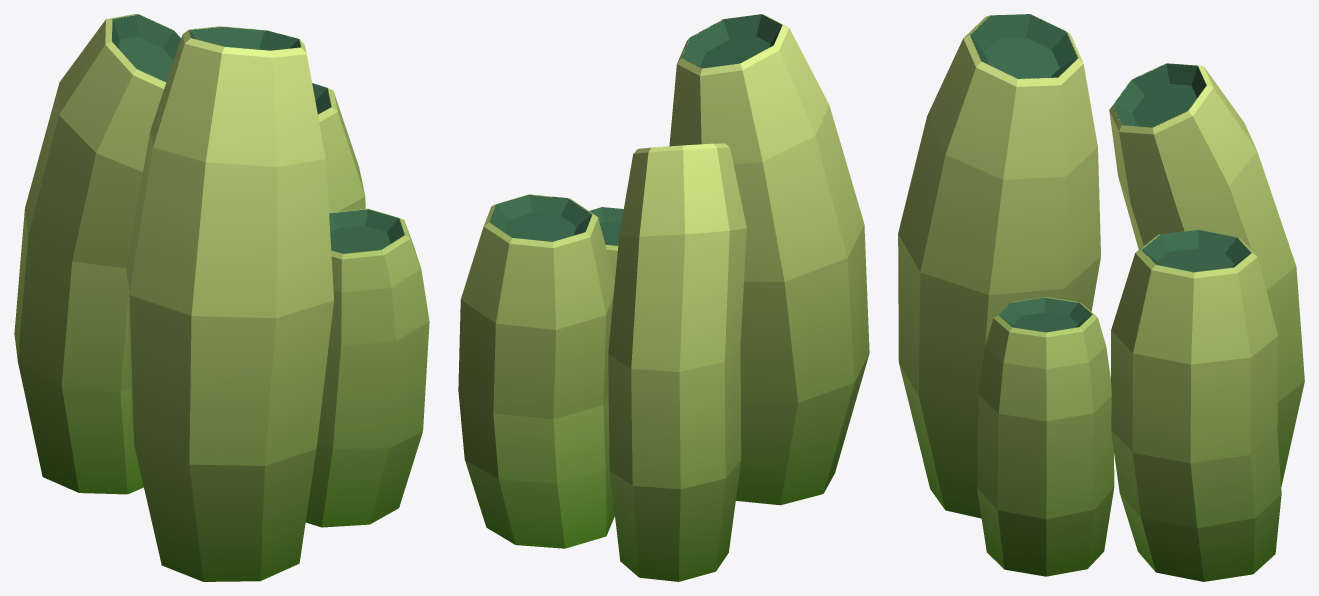
File: Coral_02.fbx
3 renders of one model, left to right at view 1: azimuth 30°, elevation 25°; view 2: azimuth 150°, elevation 25°; view 3: azimuth 270°, elevation 25°, orthographic. The views are drawn at different scales.
Parts seen in each view (by area): view 1: Coral_02; view 2: Coral_02; view 3: Coral_02.
Part boxes in pixels (x1=…): Coral_02: x1=14, y1=14, x2=429, y2=581; Coral_02: x1=458, y1=14, x2=869, y2=581; Coral_02: x1=898, y1=14, x2=1304, y2=581.
Bounding box in the file's own units: 49.03 × 72.15 × 56.34.
2 materials, 2 textured.
